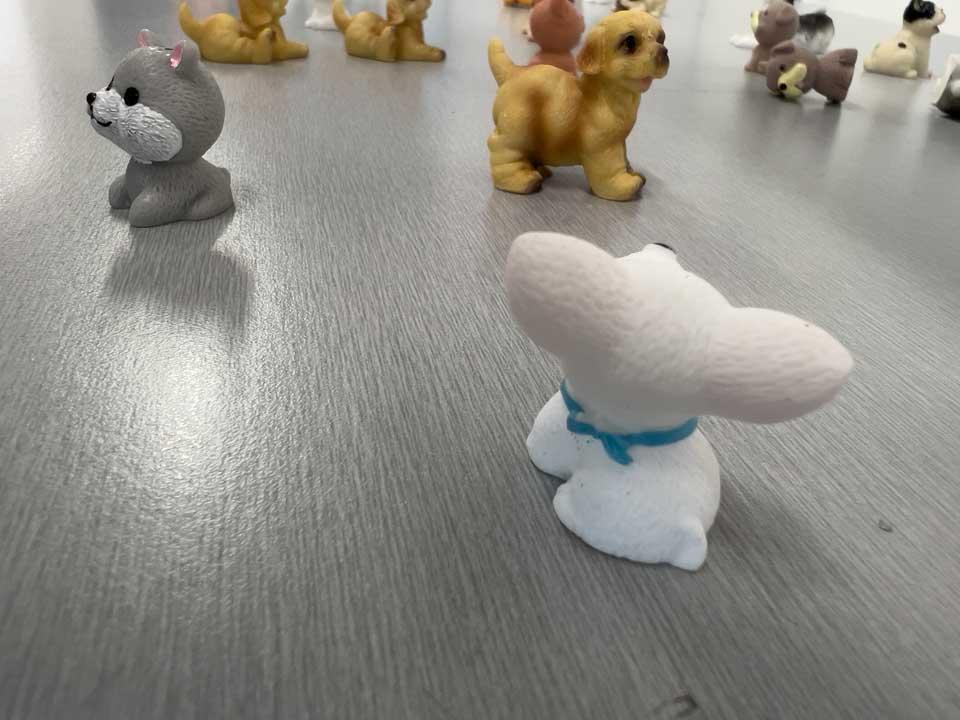pet: (506, 225, 859, 576), (481, 4, 675, 205), (84, 32, 240, 229), (174, 0, 314, 66), (327, 0, 450, 66), (760, 43, 860, 113), (860, 0, 950, 75), (743, 0, 832, 73)
